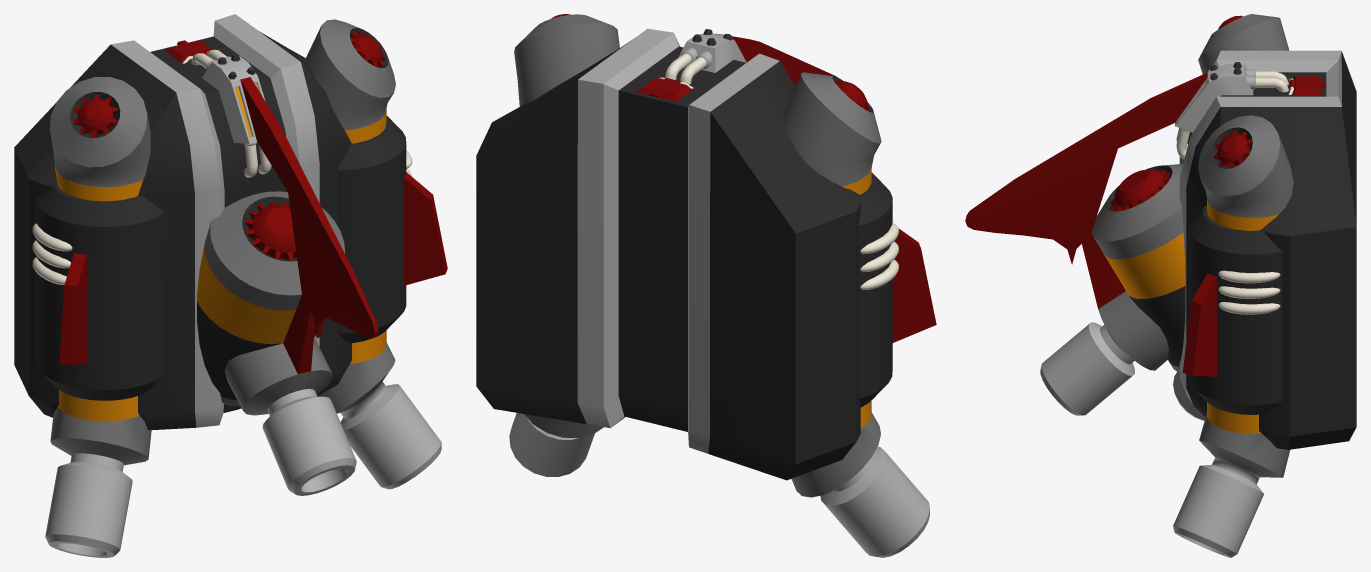
Rendered from Z-3_Jetpack.fbx.
3 views of the same model, side by side, from view 1: azimuth 30°, elevation 25°; view 2: azimuth 150°, elevation 25°; view 3: azimuth 270°, elevation 25° (orthographic). The views are drawn at different scales.
Parts seen in each view (by area): view 1: pTorus8; view 2: pTorus8; view 3: pTorus8.
Part boxes in pixels (x1,y1,x2,y2): pTorus8: (14, 14, 447, 557); pTorus8: (476, 14, 936, 557); pTorus8: (965, 14, 1356, 557).
Size of the model in its own units: 2.71 by 3.05 by 2.56.
